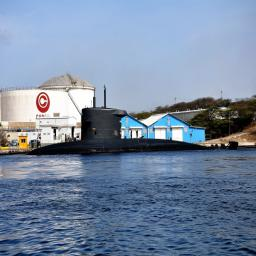submarine: (28, 88, 239, 156)
